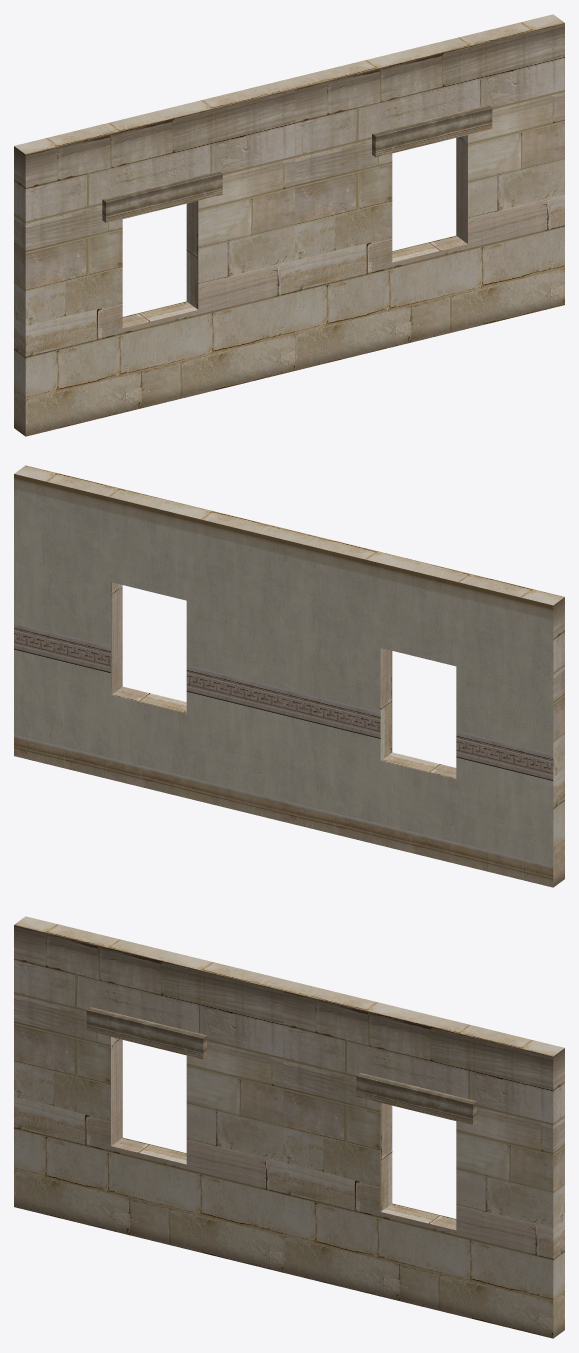
The model's file is svspartawindow5.dae.
3 views of the same model, one above another, from view 1: azimuth 30°, elevation 25°; view 2: azimuth 150°, elevation 25°; view 3: azimuth 330°, elevation 25° (orthographic).
Visible parts, largest first — view 1: unnamed_object6_copy56-0; view 2: unnamed_object6_copy56-0; view 3: unnamed_object6_copy56-0.
Part boxes in pixels (<box>): unnamed_object6_copy56-0: <box>14,14,564,436</box>; unnamed_object6_copy56-0: <box>14,465,564,887</box>; unnamed_object6_copy56-0: <box>14,916,564,1338</box>.
Size of the model in its own units: 800 by 400 by 40.
